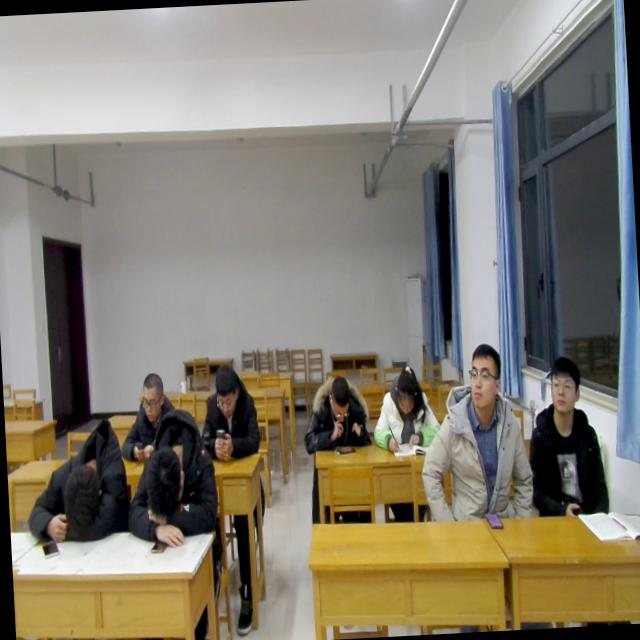bow: (121, 416, 224, 552), (22, 422, 131, 540)
down: (210, 358, 242, 418), (138, 368, 167, 426), (391, 365, 422, 418), (326, 370, 352, 423)
lookup: (466, 334, 505, 412), (544, 352, 586, 422)
sit: (418, 340, 536, 519), (524, 353, 611, 513), (198, 360, 262, 466), (302, 366, 371, 456), (372, 363, 436, 451), (118, 368, 181, 456)
